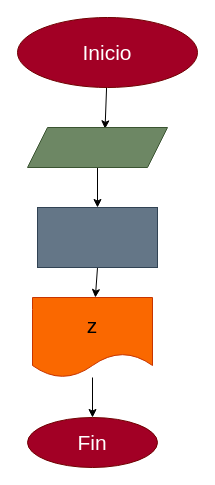
This 215x485 diagram has some shape labels left out. Here are the shapes that lost their labels. From the top down, the box of each, then its label:
(26, 126, 168, 168): x,y
(36, 206, 158, 268): z=x^y
